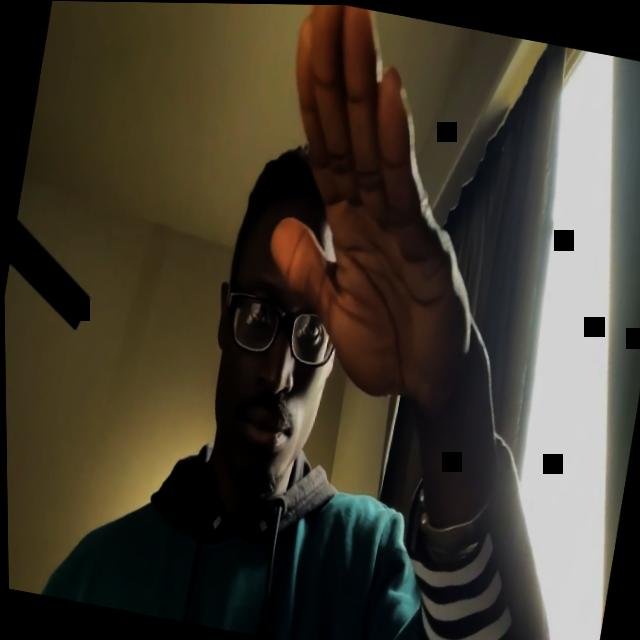Paper: (237, 3, 522, 411)
